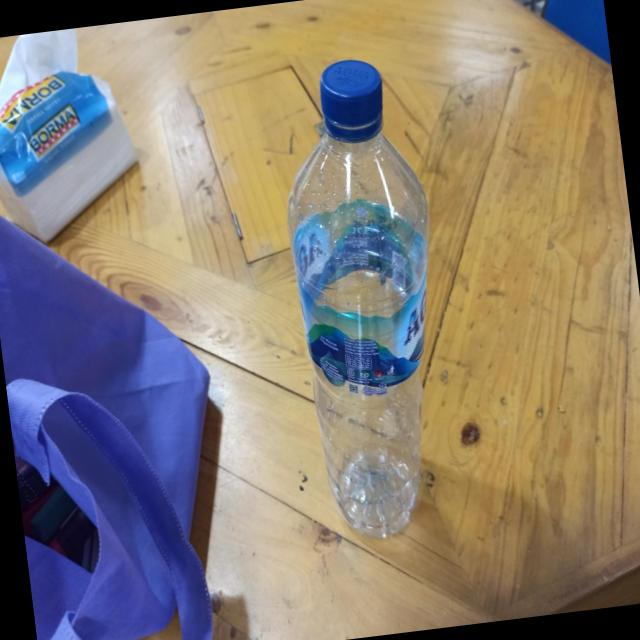BotolPlastik: (266, 49, 466, 544)
